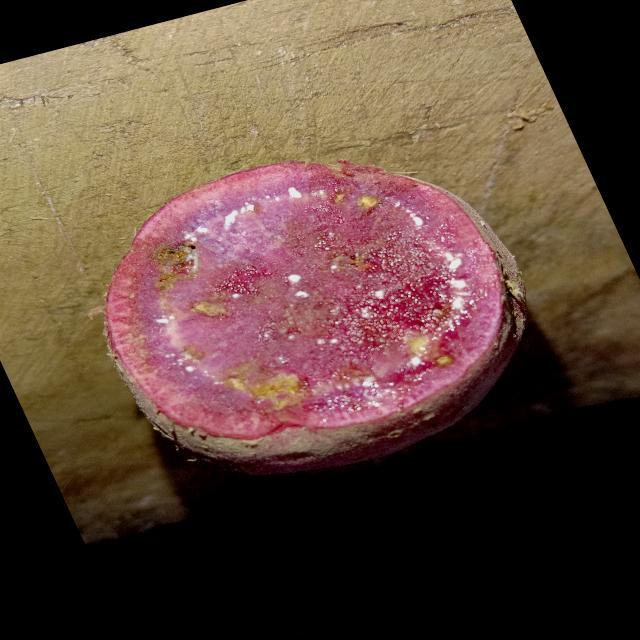Sick Sweet Potato_Tuber Rot: (105, 161, 525, 472)
